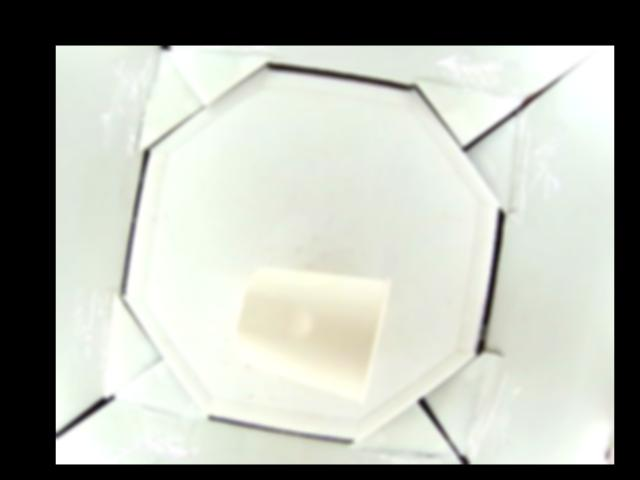Cup: (232, 265, 389, 407)
